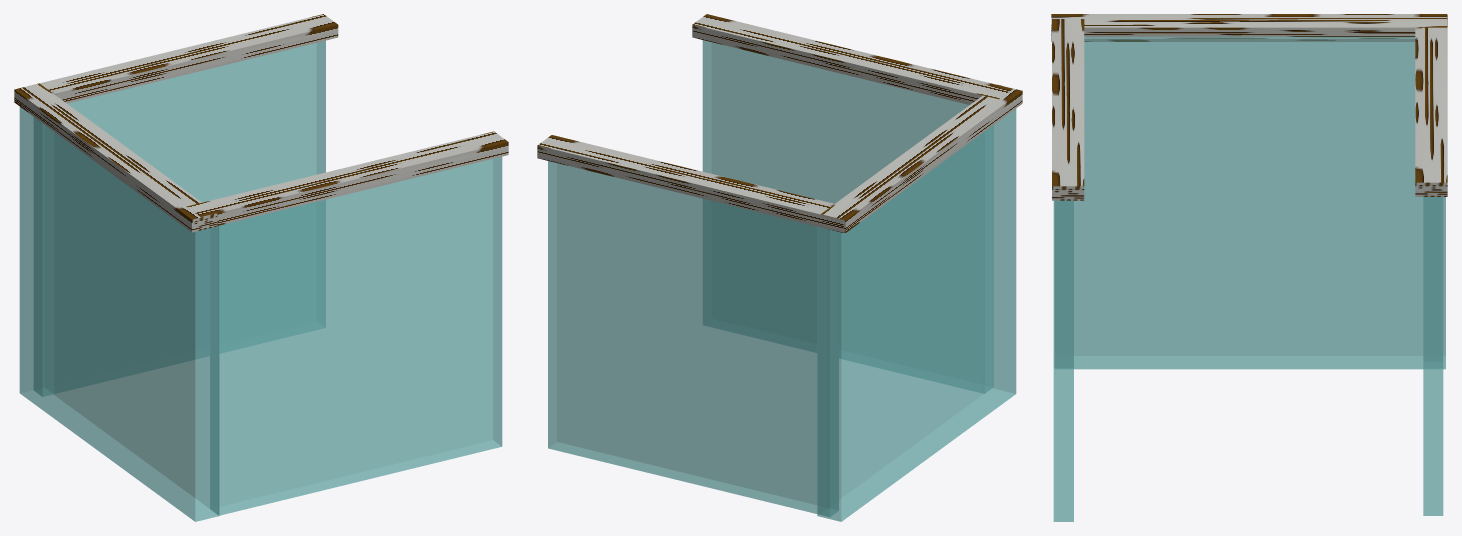
The model's file is cutoffs.obj.
The picture shows the model from 3 angles, left to right: view 1: azimuth 30°, elevation 25°; view 2: azimuth 150°, elevation 25°; view 3: azimuth 270°, elevation 25°; orthographic projection. The views are drawn at different scales.
Visible parts, largest first — view 1: Cube.006_glass.001, Cube.006_steel; view 2: Cube.006_glass.001, Cube.006_steel; view 3: Cube.006_glass.001, Cube.006_steel.
Part boxes in pixels (<box>): Cube.006_glass.001: <box>19,40,502,521</box>; Cube.006_steel: <box>14,14,508,232</box>; Cube.006_glass.001: <box>548,40,1016,521</box>; Cube.006_steel: <box>537,14,1022,232</box>; Cube.006_glass.001: <box>1053,36,1445,521</box>; Cube.006_steel: <box>1051,14,1447,200</box>.
Size of the model in its own units: 2.24 by 2.06 by 2.18.
